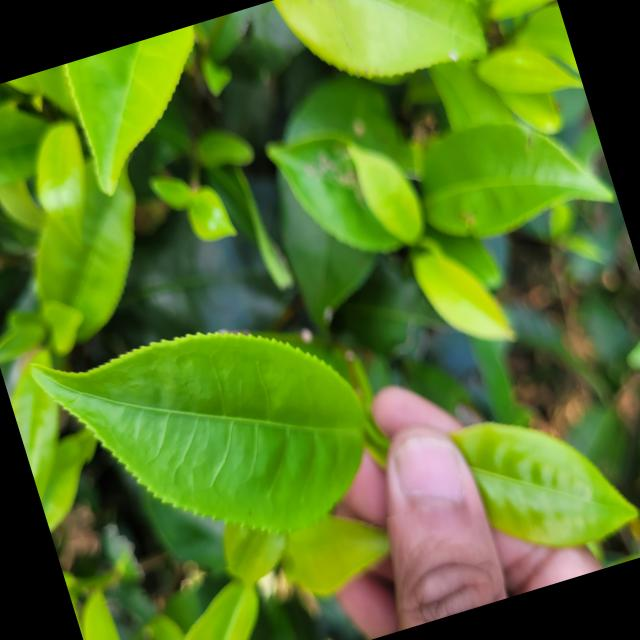Category B 2-4 days: (16, 239, 434, 606)
